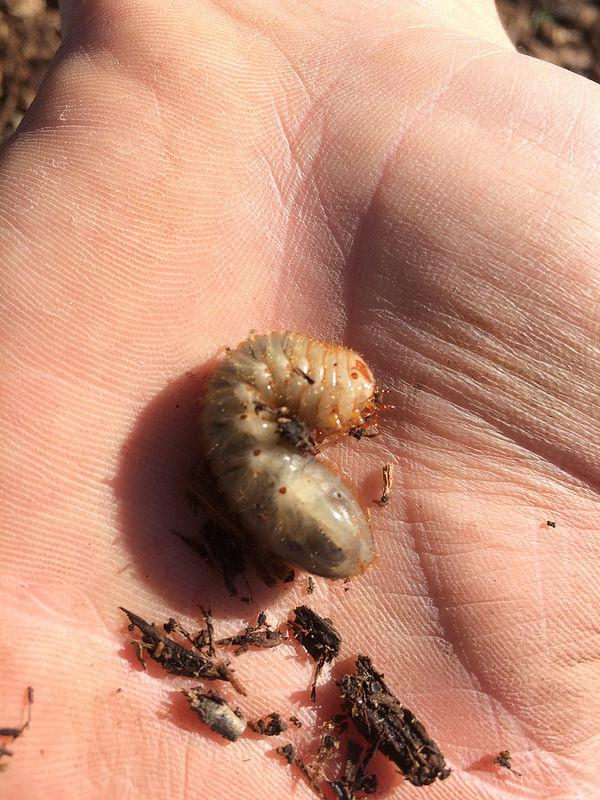grub: (182, 329, 403, 586)
